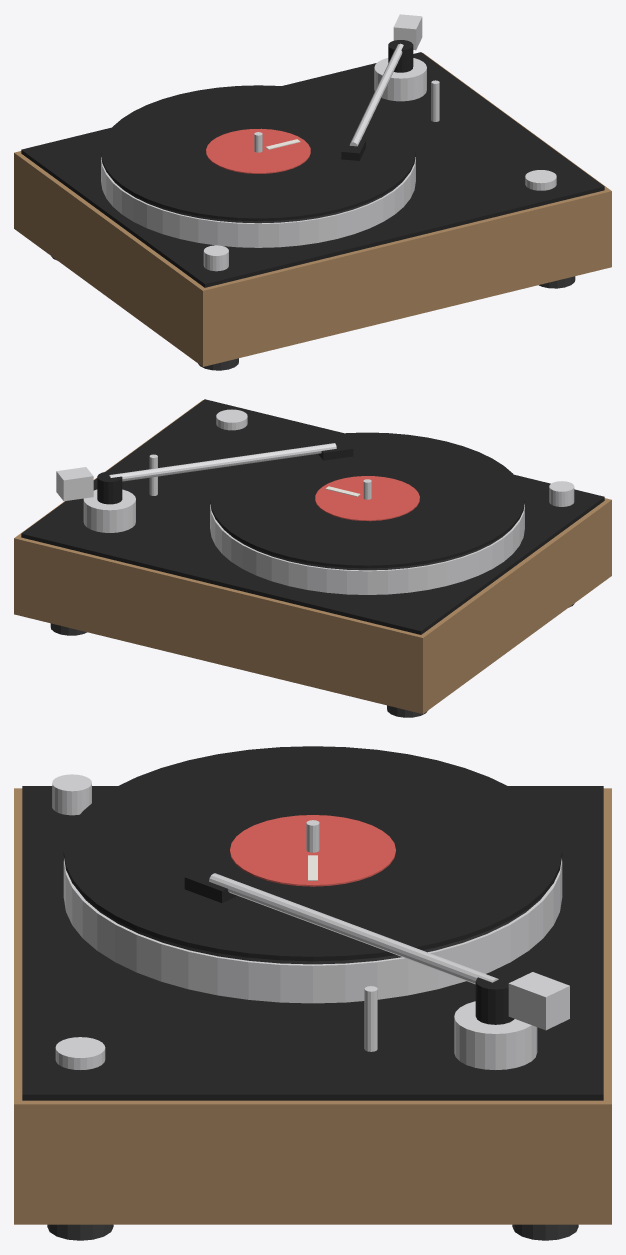
File: Vinyl2.glb
3 views of the same model, one above another, from view 1: azimuth 30°, elevation 25°; view 2: azimuth 150°, elevation 25°; view 3: azimuth 270°, elevation 25° (orthographic). The views are drawn at different scales.
Visible parts, largest first — view 1: VinylPlayer, Turntable_Disc, Tonearm; view 2: VinylPlayer, Turntable_Disc, Tonearm; view 3: VinylPlayer, Turntable_Disc, Tonearm.
Boxes of the visible parts, x1,y1,x2,y2 form: VinylPlayer: (14, 40, 611, 370); Turntable_Disc: (101, 85, 415, 247); Tonearm: (341, 14, 422, 160); VinylPlayer: (14, 399, 611, 717); Turntable_Disc: (210, 432, 524, 594); Tonearm: (56, 441, 353, 501); VinylPlayer: (14, 774, 611, 1240); Turntable_Disc: (63, 746, 562, 1003); Tonearm: (184, 868, 569, 1030).
Bounding box in the file's own units: 0.45 × 0.16 × 0.36.
